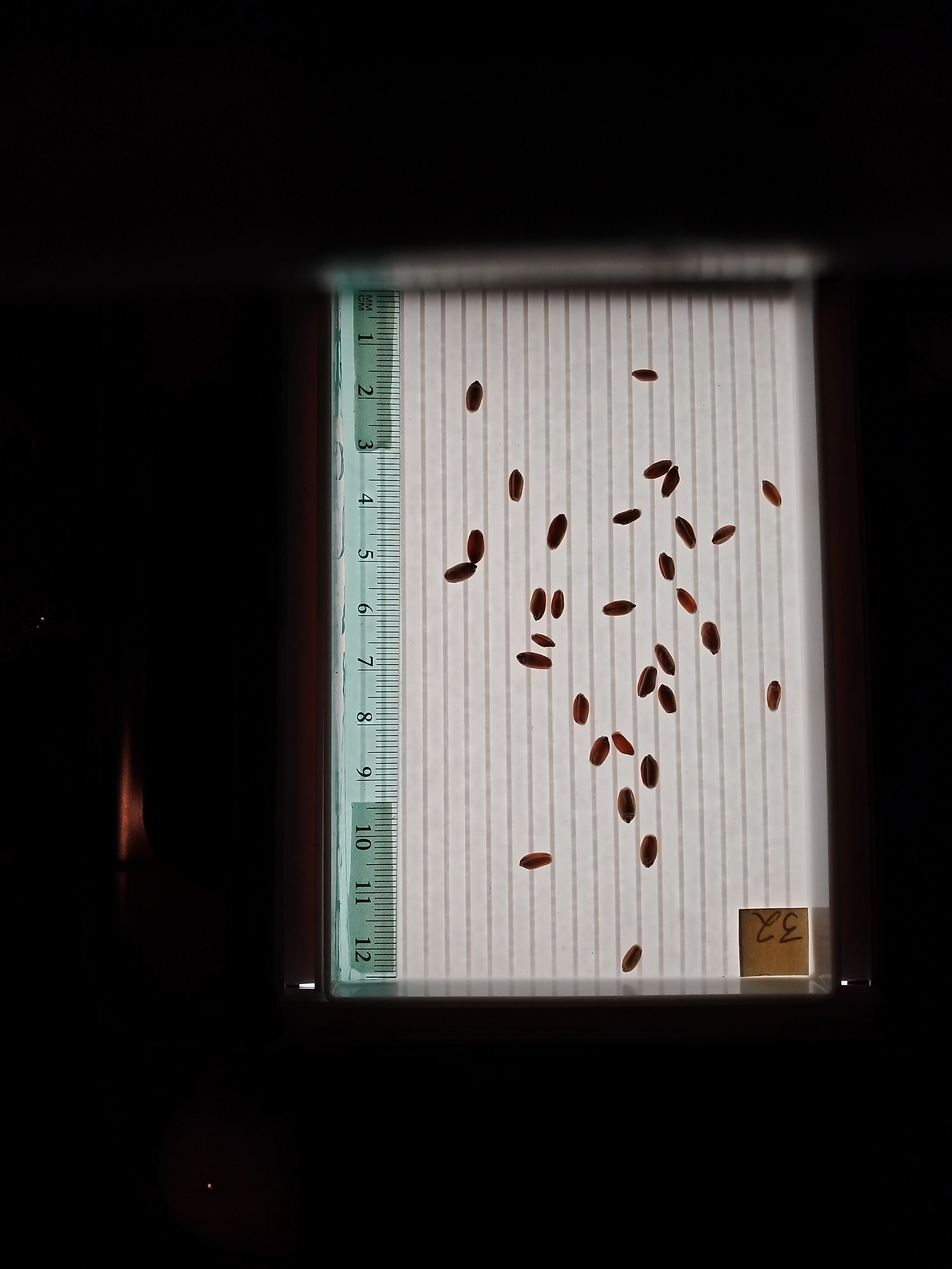seed mask: (547, 515, 567, 549), (445, 562, 476, 583), (701, 622, 721, 654), (655, 645, 676, 675), (618, 788, 636, 823), (676, 517, 696, 548), (641, 755, 659, 789), (640, 835, 658, 868), (638, 666, 657, 697), (590, 737, 610, 766), (467, 530, 485, 562), (603, 599, 635, 617), (661, 466, 680, 496), (622, 945, 642, 973), (762, 480, 782, 507), (658, 685, 677, 713), (518, 653, 551, 669), (645, 460, 672, 479), (508, 470, 524, 502), (466, 382, 483, 412), (677, 589, 697, 614), (530, 588, 546, 619), (520, 853, 551, 869), (573, 695, 590, 724), (612, 733, 634, 755), (712, 525, 736, 545), (658, 554, 676, 580), (766, 681, 781, 711), (614, 509, 640, 525), (632, 368, 658, 383), (552, 591, 564, 618), (532, 634, 553, 648)
